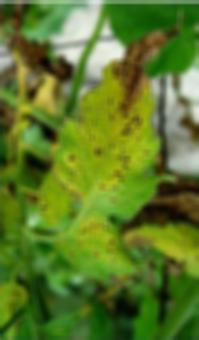Tomato Septoria leaf spot: (42, 28, 183, 275)
